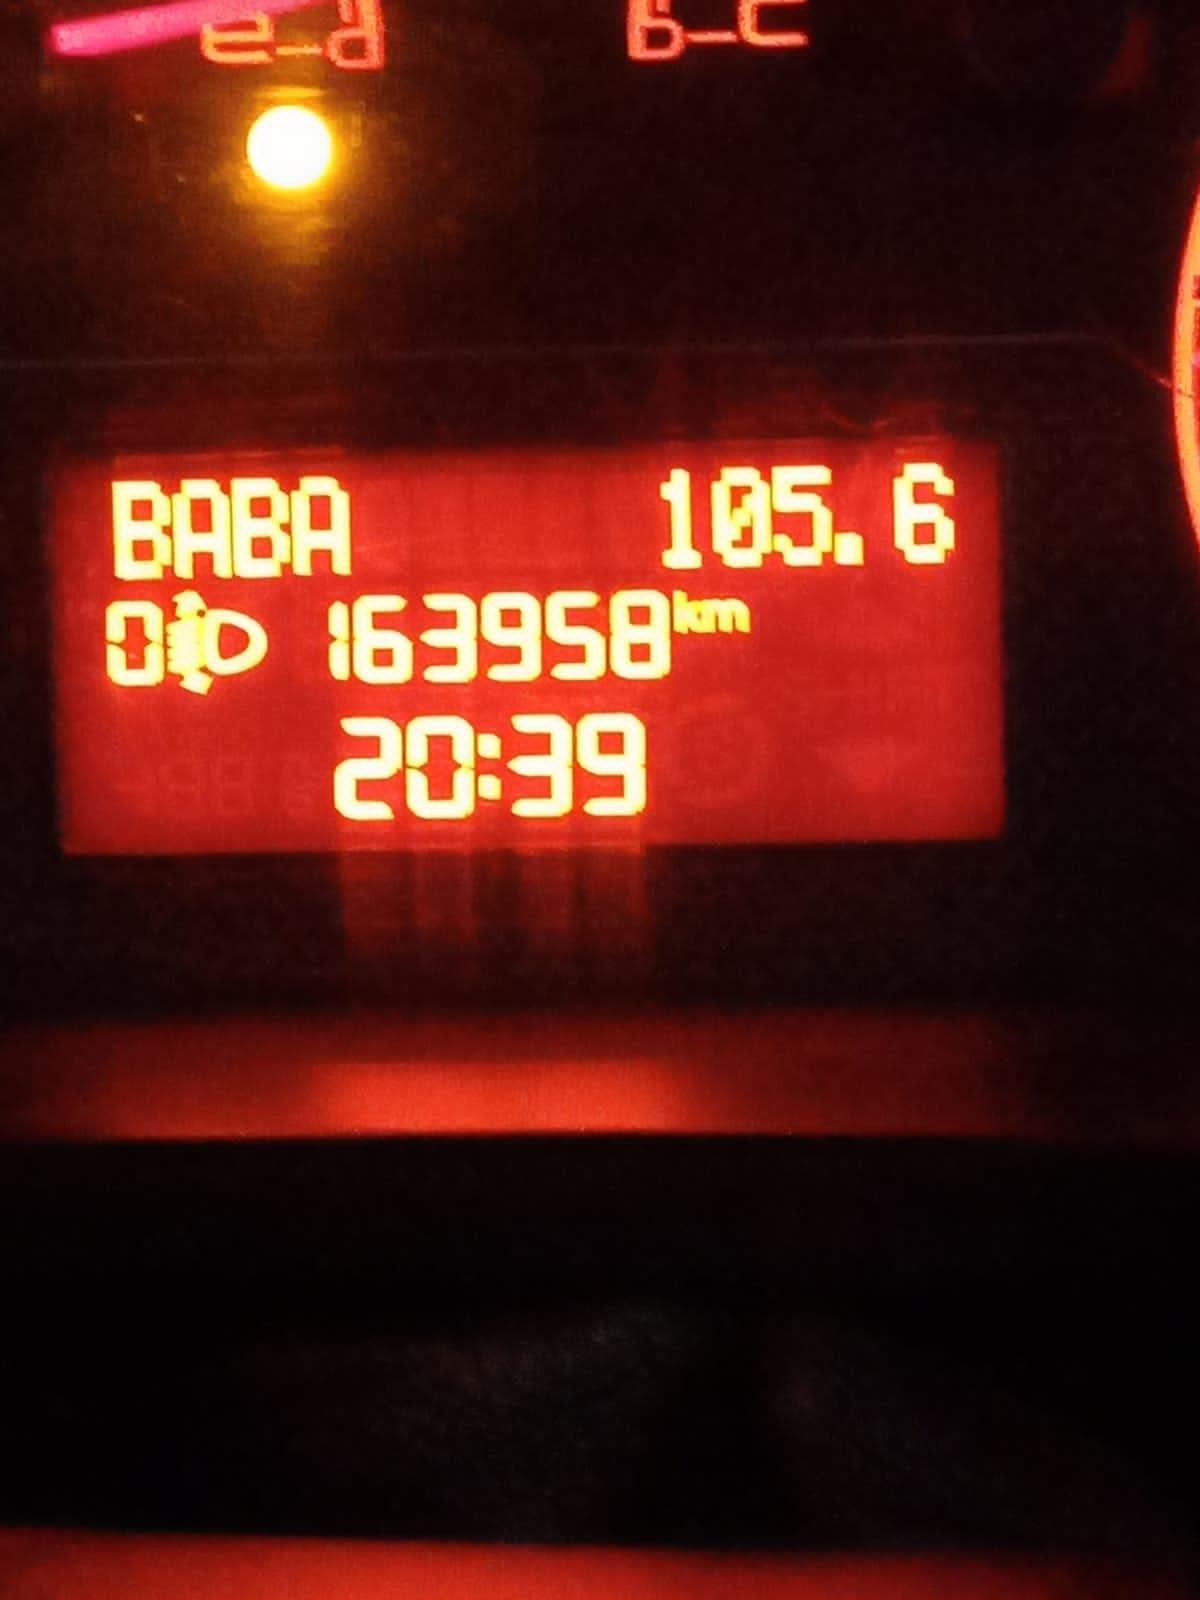,: (833, 528, 866, 569)
0: (403, 714, 476, 820), (708, 466, 771, 568), (103, 600, 166, 688)
1: (658, 466, 702, 572), (326, 598, 350, 682)
2: (332, 716, 405, 821)
3: (505, 712, 575, 816), (418, 592, 476, 682)
5: (771, 464, 834, 568), (543, 591, 609, 682)
6: (890, 459, 957, 566), (350, 592, 413, 685)
8: (608, 588, 674, 679)
9: (574, 711, 649, 816), (476, 591, 545, 682)
X: (289, 472, 354, 580), (111, 477, 171, 585), (171, 476, 233, 581), (231, 474, 291, 580), (700, 595, 754, 635), (474, 729, 502, 803), (669, 587, 701, 637)
odometer: (39, 430, 1010, 866)
